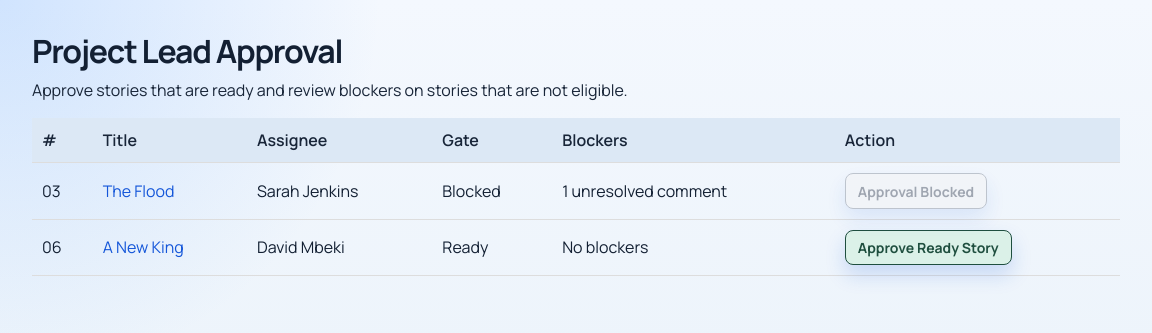
Test: LeadApprovalGate › approves ready stories and updates status message
Click the button with aria-label "Approve story 06" at (928, 248), box [845,230,1012,265]
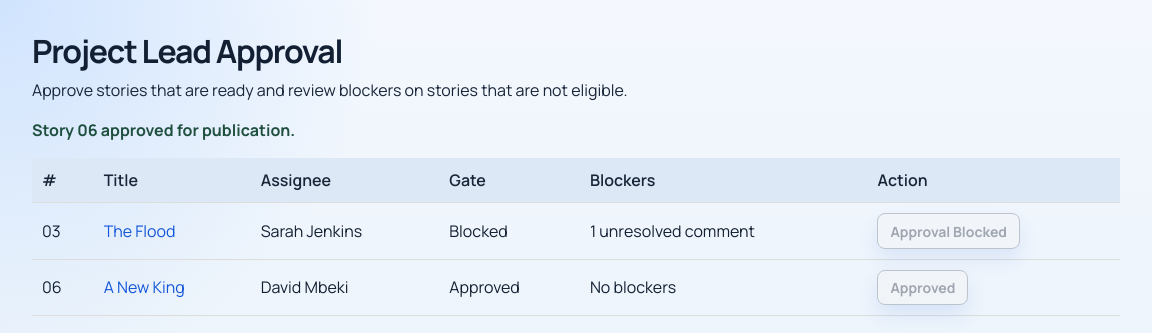
Expected: the text with test id "approval-message" reads "Story 06 approved for publication.", [32,119,295,141]
Expected: the button with aria-label "Approved story 06" is disabled, [878,270,968,305]
